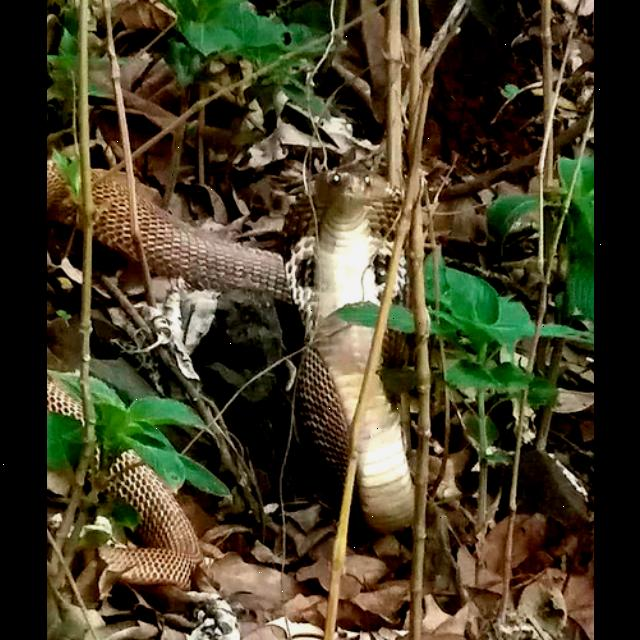snake: (48, 147, 436, 591)
